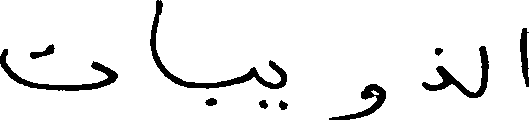ا: (146, 0, 165, 78), (514, 25, 527, 87)
ب: (203, 64, 258, 106)
ت: (0, 41, 117, 91)
ذ: (421, 46, 451, 91)
ل: (473, 44, 490, 99)
و: (330, 82, 385, 118)
ي: (257, 58, 287, 111)
